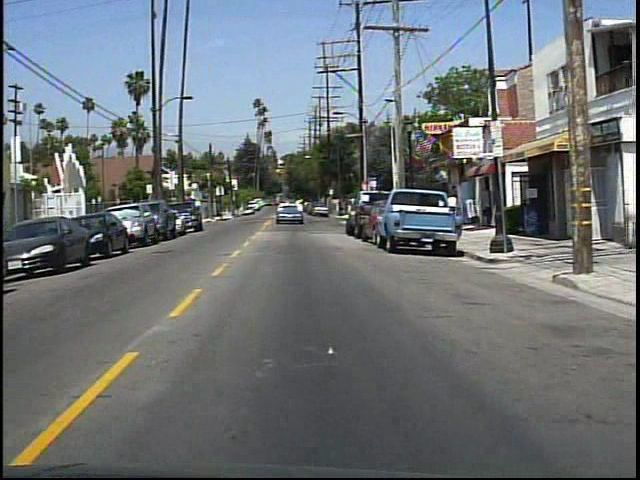person: (444, 189, 464, 231)
